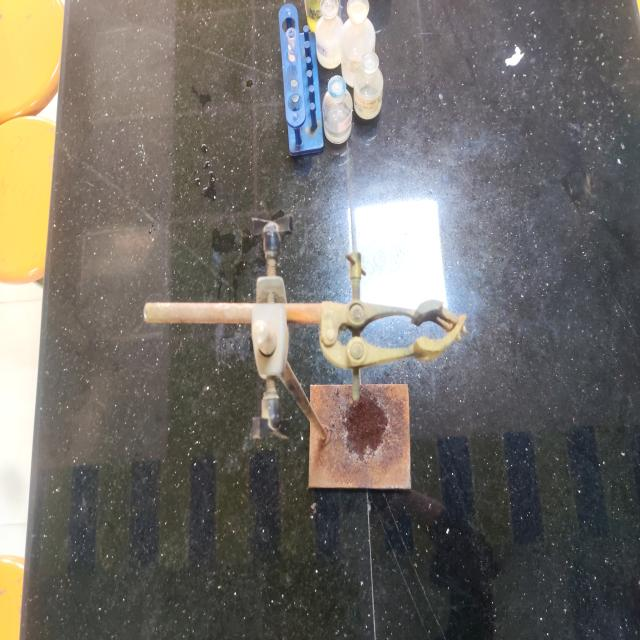Burette_Stands: (135, 193, 466, 518)
